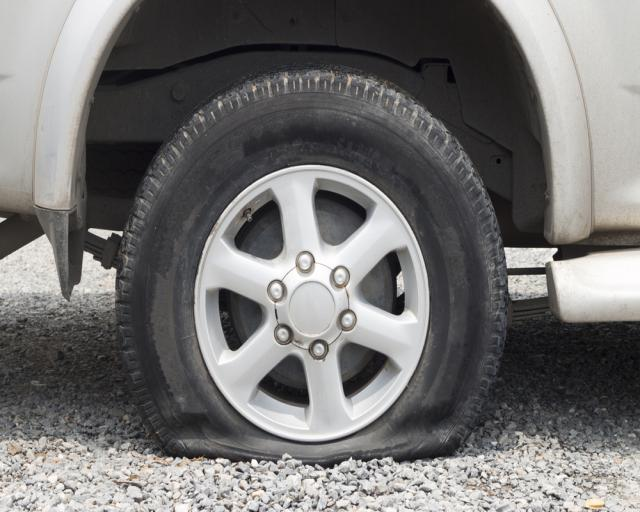tire flat: (114, 62, 509, 466)
